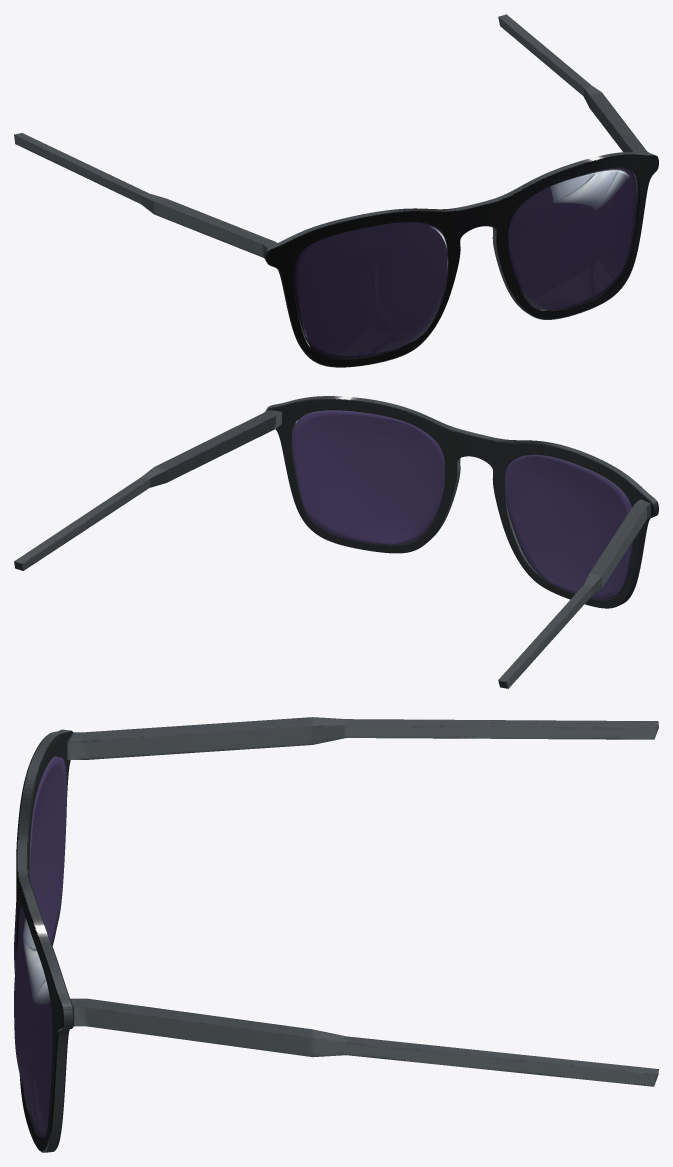
The model's file is sunglassesBaked.glb.
3 renders of one model, top to bottom at view 1: azimuth 30°, elevation 25°; view 2: azimuth 150°, elevation 25°; view 3: azimuth 270°, elevation 25°, orthographic. The views are drawn at different scales.
Parts seen in each view (by area): view 1: lenses, frame, pinnar; view 2: lenses, frame, pinnar; view 3: pinnar, lenses, frame.
Part boxes in pixels (x1,y1,x2,y2): lenses: (293, 167, 636, 358); frame: (264, 152, 658, 367); pinnar: (14, 14, 649, 258); lenses: (292, 410, 633, 600); frame: (266, 396, 658, 608); pinnar: (14, 410, 651, 688); pinnar: (67, 717, 658, 1086); lenses: (14, 756, 66, 1137); frame: (16, 729, 74, 1152).
Bounding box in the file's own units: 17.04 × 4.91 × 13.13.
Materials: 2 (2 with a texture image).
